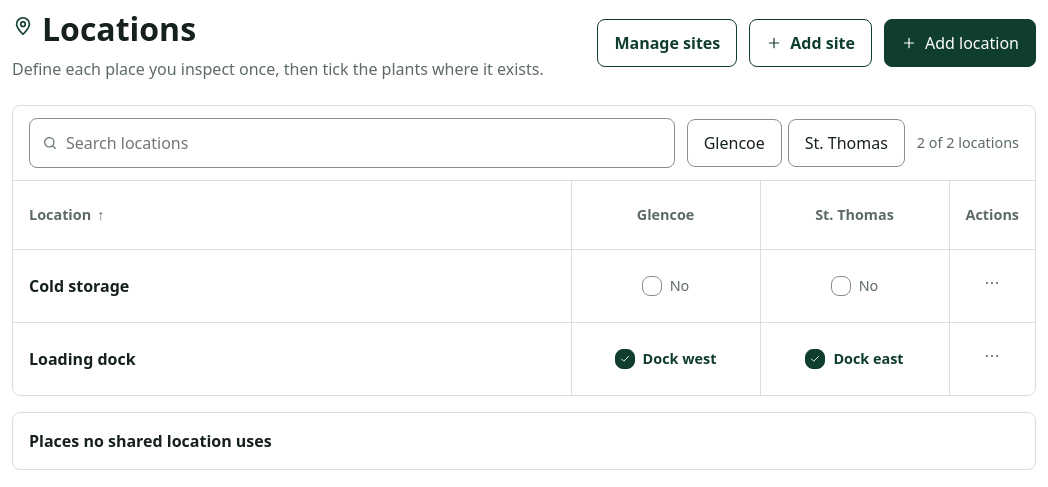
buscar y elegir plantas › prender la segunda devuelve las dos columnas
Click the button "Glencoe". click: [734, 143]
box: [687,119,782,167]
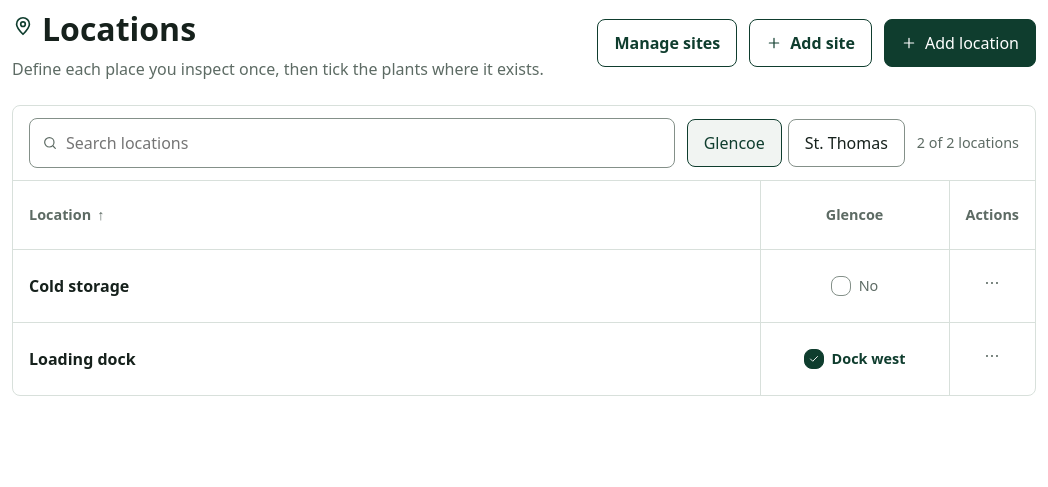
Click the button "St. Thomas". click: [846, 143]
box: [788,119,905,167]
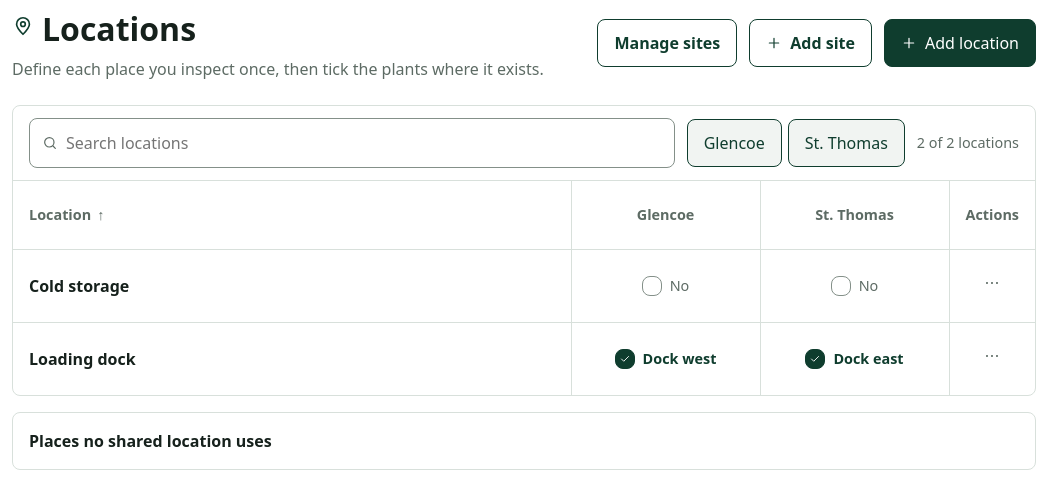
Expected: the checkbox named "Loading dock in Glencoe" is shown, [578,335,754,383]
Now the checkbox named "Loading dock in St. Thomas" is shown, box [766,335,942,383]
